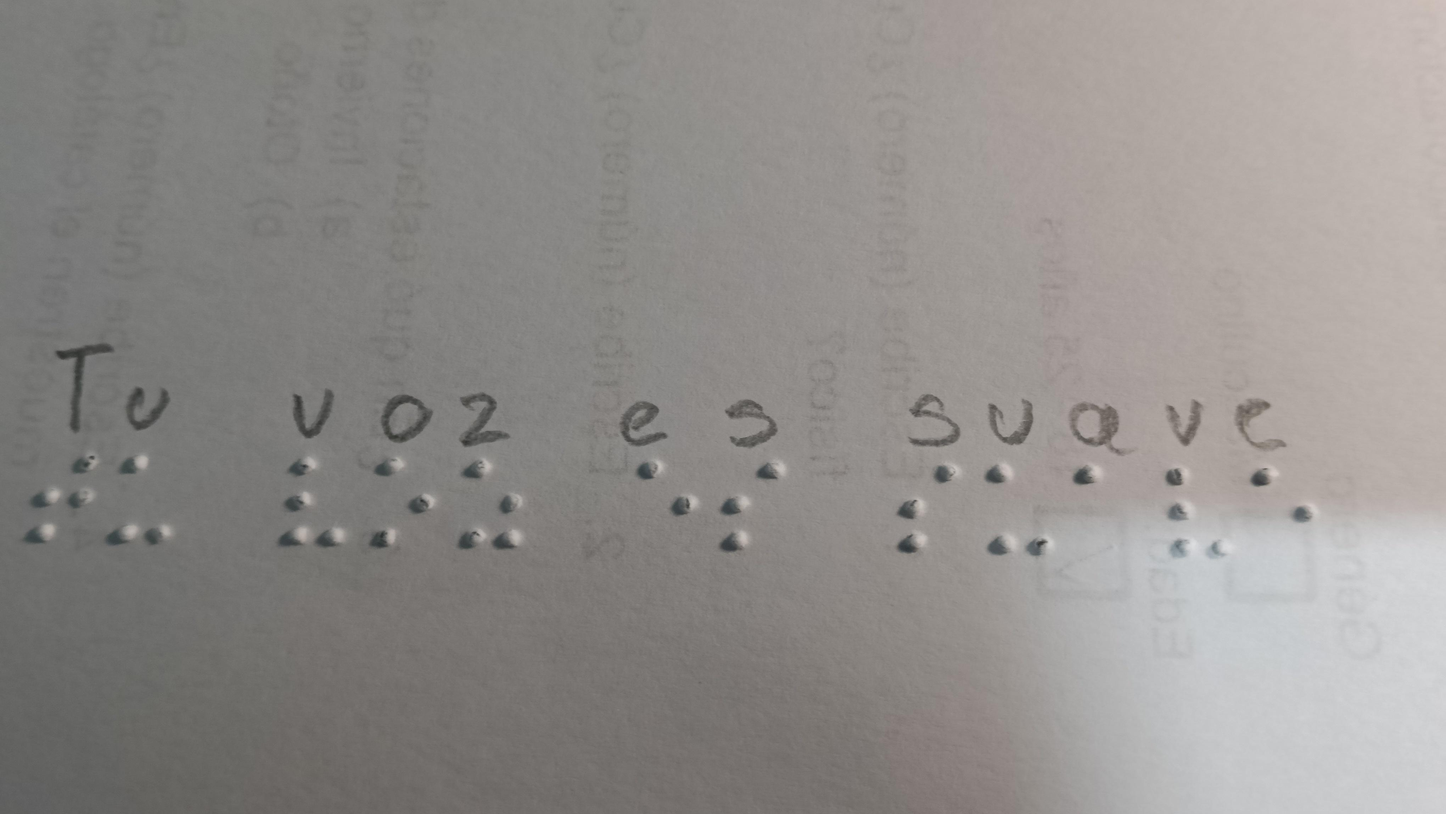a: (1060, 447, 1123, 502)
e: (613, 452, 711, 535), (1235, 456, 1322, 539)
o: (360, 447, 443, 555)
s: (711, 456, 813, 562), (867, 457, 971, 558)
t: (7, 436, 110, 553)
u: (971, 457, 1060, 567), (112, 450, 193, 553)
v: (260, 441, 354, 560), (1145, 457, 1240, 573)
z: (443, 456, 537, 560)
